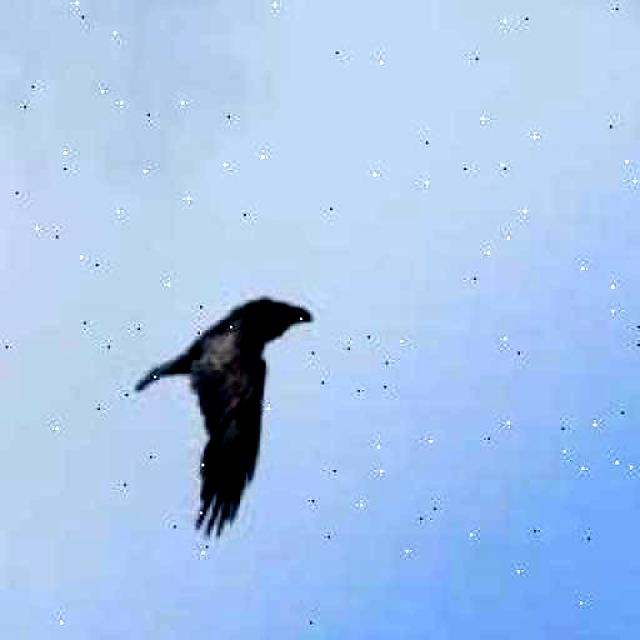airplane: (125, 286, 312, 546)
